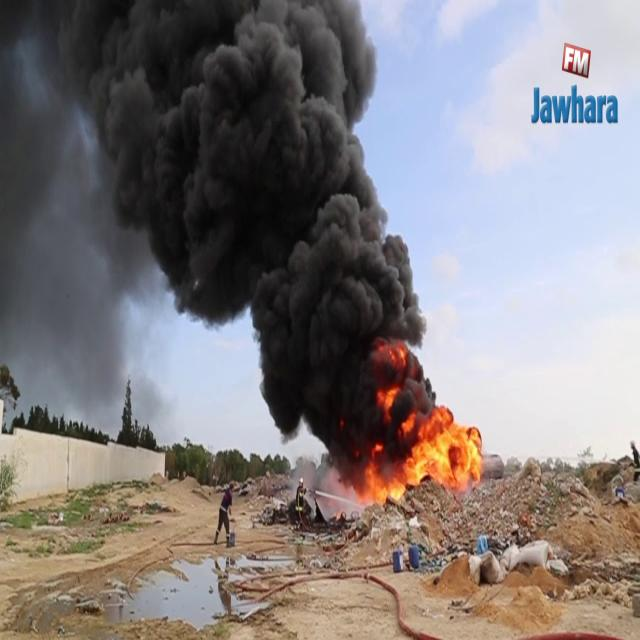fire: (418, 418, 484, 488)
smoke: (0, 0, 354, 272), (262, 278, 370, 430)
